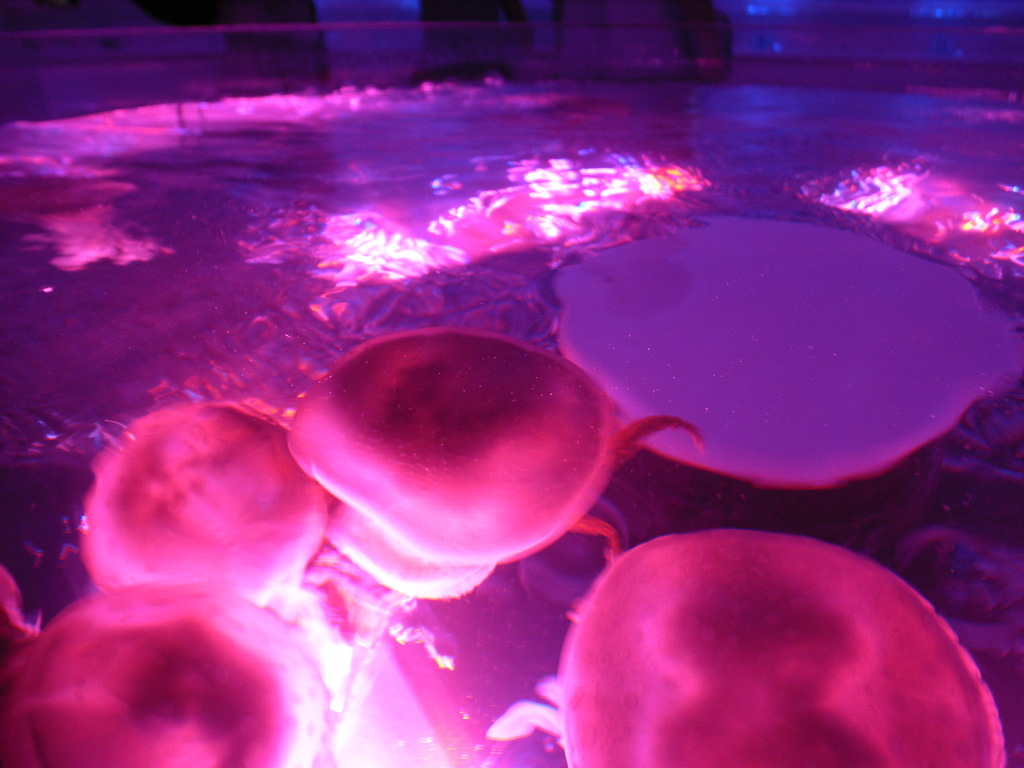Jellyfish: (533, 527, 1011, 767), (281, 336, 636, 616), (81, 396, 325, 653), (0, 585, 328, 767)
